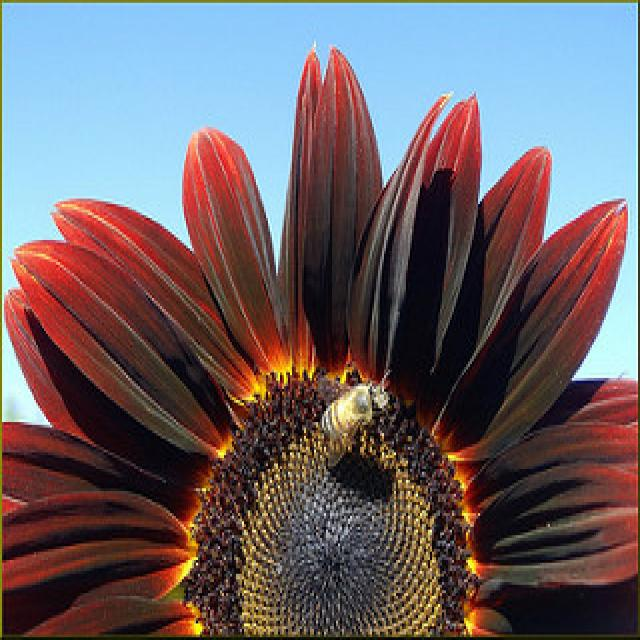sunflower: (2, 29, 640, 639)
